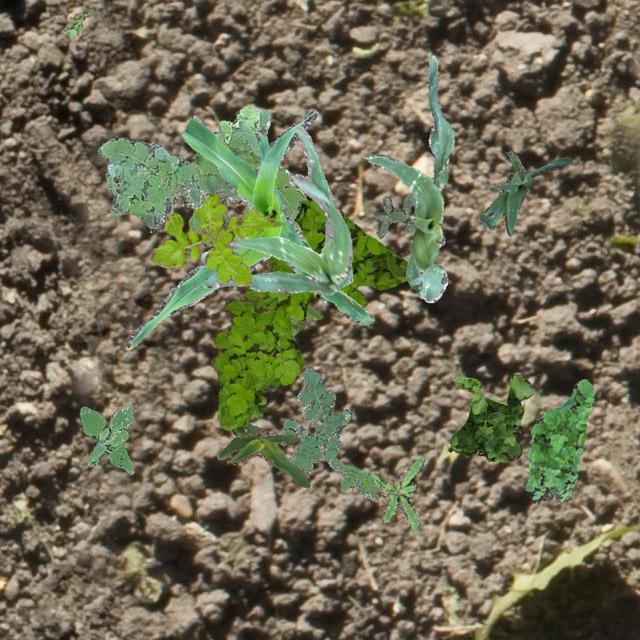crop: (124, 108, 374, 348), (200, 124, 352, 294), (364, 55, 454, 302), (478, 148, 570, 234), (216, 422, 310, 487)
weed: (210, 194, 406, 428), (188, 104, 306, 246), (280, 366, 378, 501), (150, 192, 282, 284), (230, 306, 322, 436), (96, 136, 216, 230), (524, 378, 594, 502), (448, 374, 532, 462), (369, 454, 424, 532), (78, 401, 134, 474), (372, 192, 414, 238), (62, 8, 92, 38), (222, 212, 228, 225)
